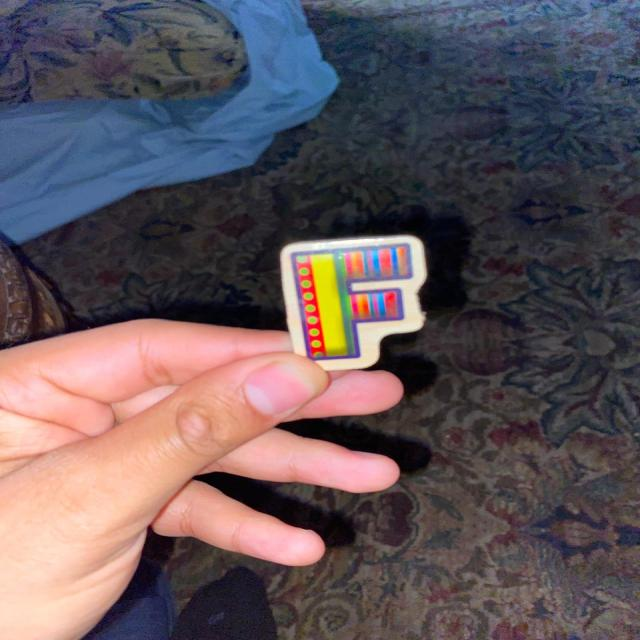F: (281, 234, 427, 370)
